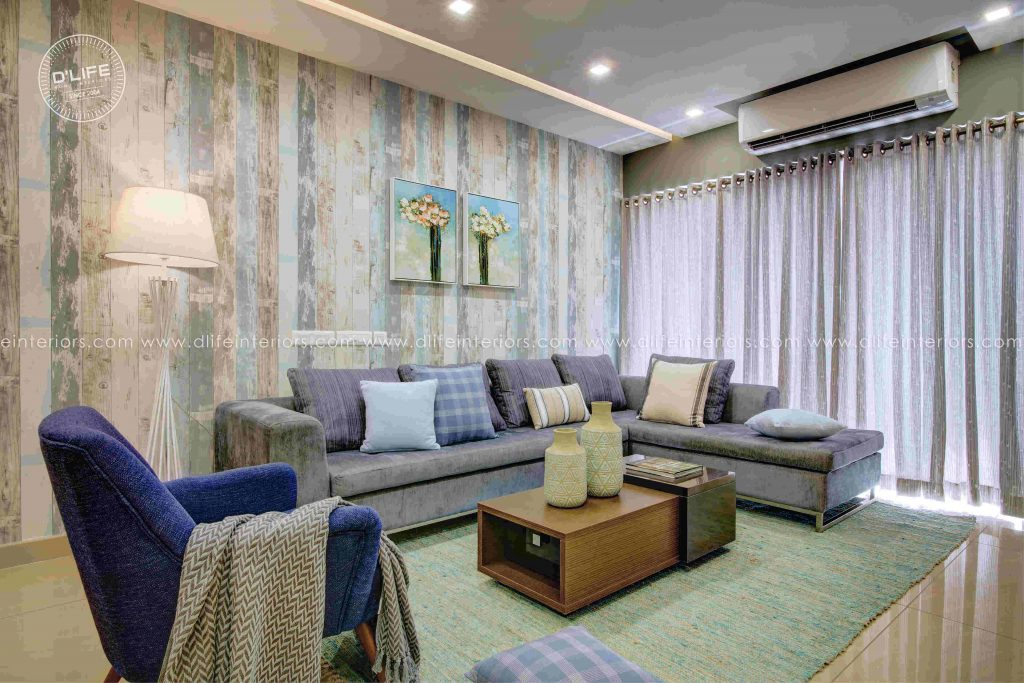chair: (36, 401, 387, 683)
floor lamp: (102, 156, 220, 484)
sofa: (213, 349, 887, 536)
table: (474, 461, 740, 619)
wall art: (384, 172, 463, 286), (462, 189, 529, 293)
